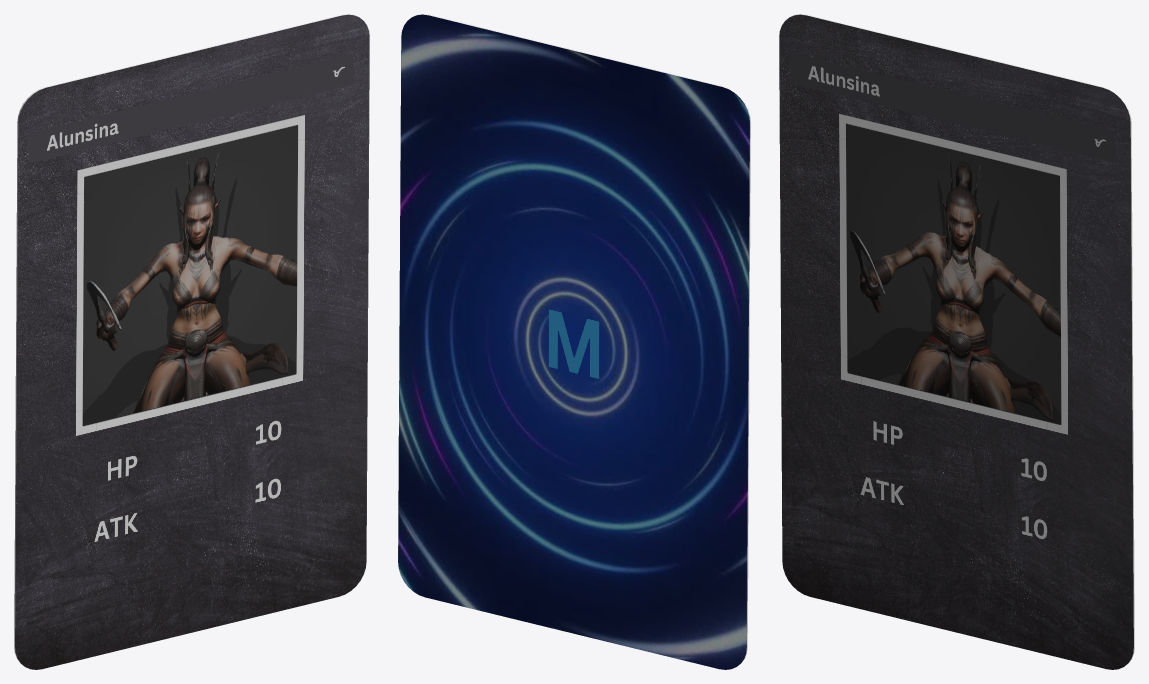
The model's file is Alunsina.glb.
The picture shows the model from 3 angles, left to right: view 1: azimuth 30°, elevation 25°; view 2: azimuth 150°, elevation 25°; view 3: azimuth 330°, elevation 25°; orthographic projection.
Visible parts, largest first — view 1: Card; view 2: Card; view 3: Card.
Part boxes in pixels (x1,y1,x2,y2): Card: (14,14,369,669); Card: (398,14,750,669); Card: (779,14,1134,669).
Size of the model in its own units: 0.056 by 0.0889 by 0.00122.
3 materials, 2 textured.
